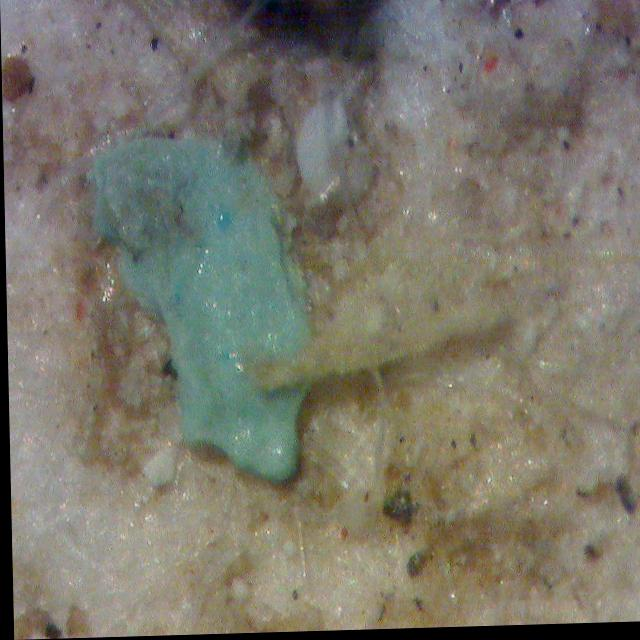microplastic: (66, 89, 381, 512)
